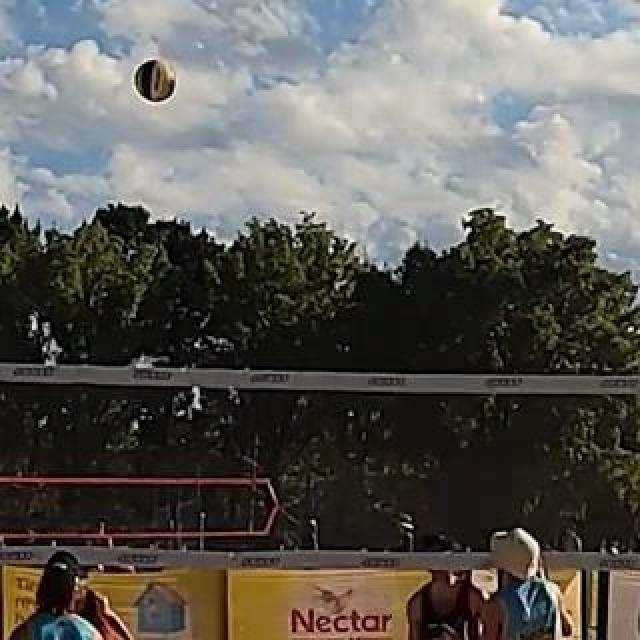volleyball: (135, 58, 179, 104)
